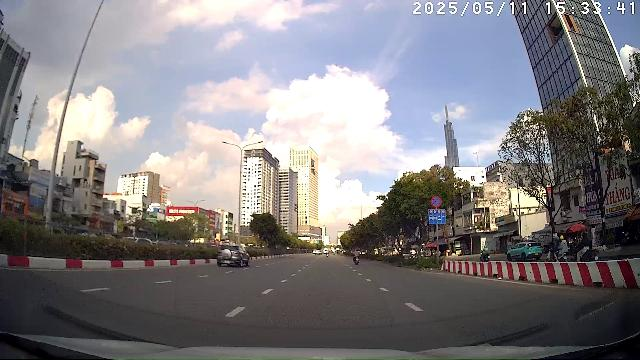130-cam-dung-va-do-xe: (431, 196, 442, 208)
